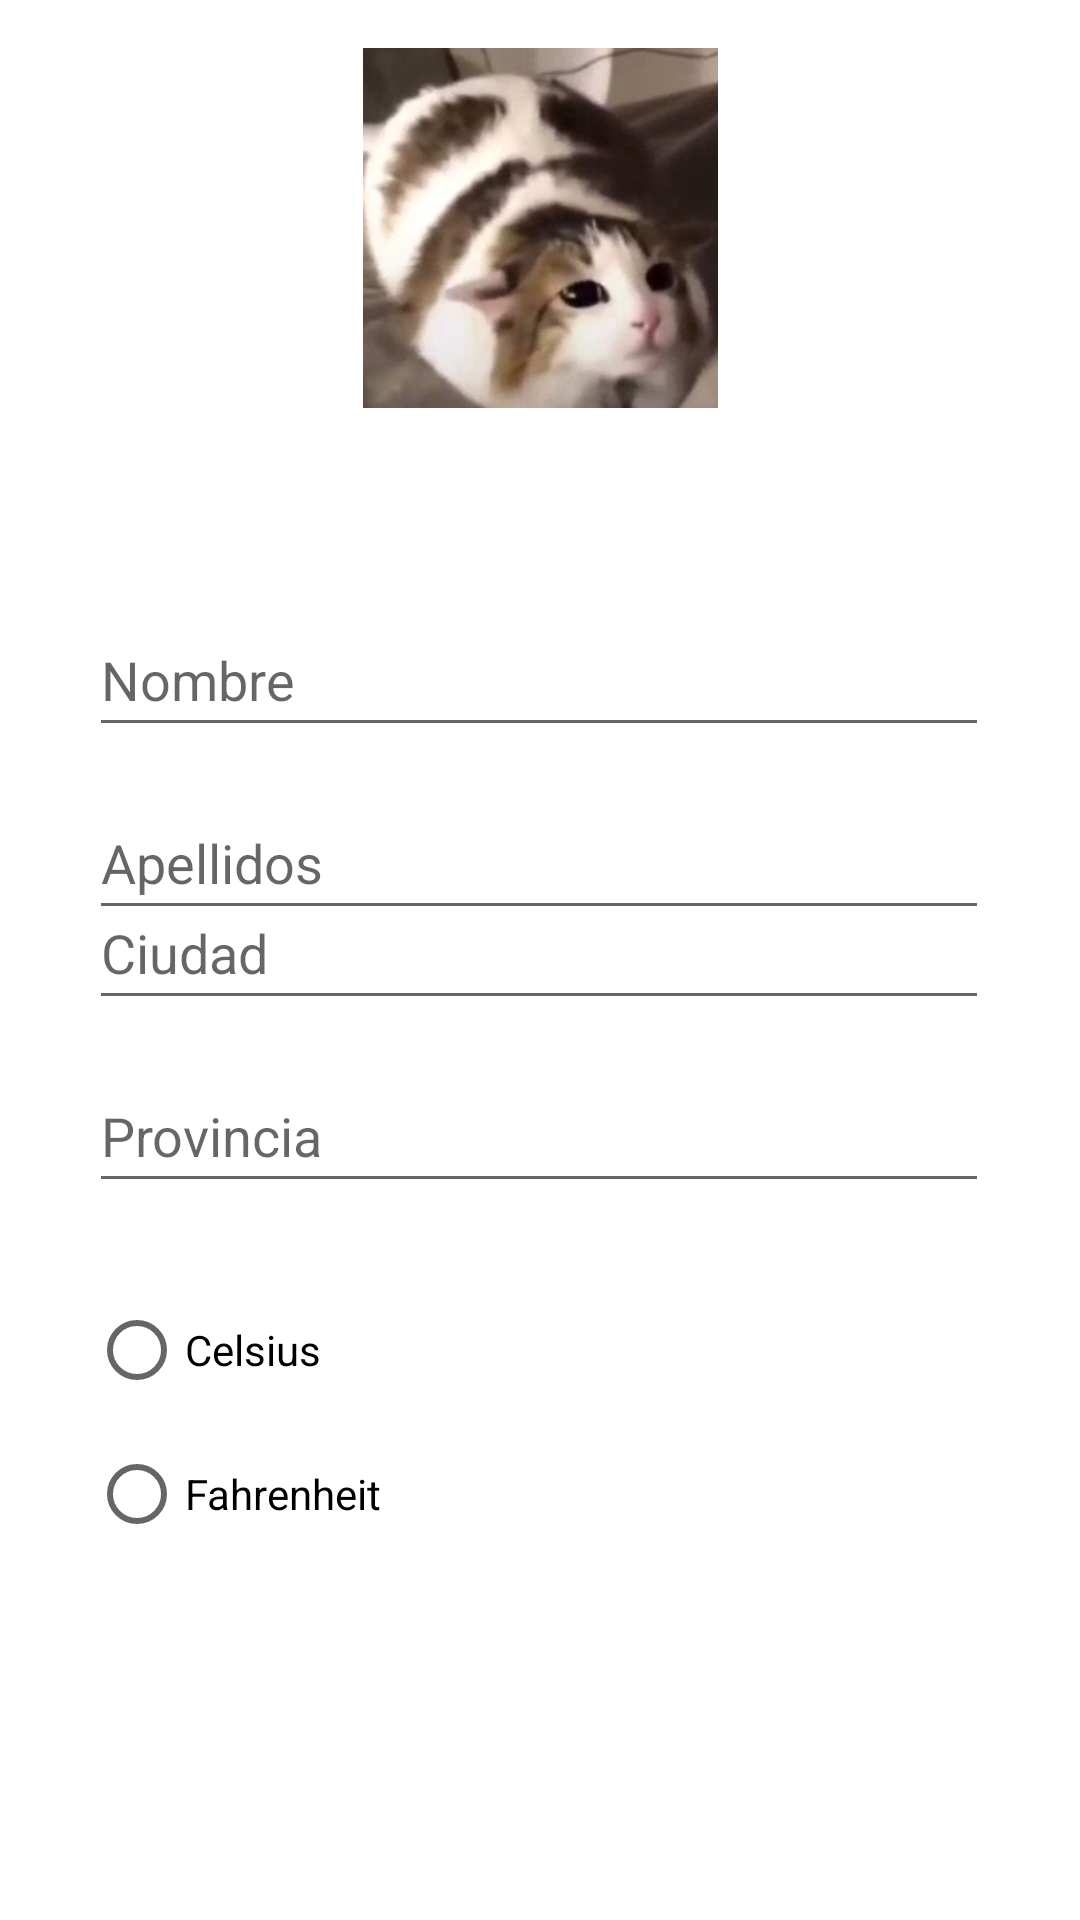

Where to tap for icons on this 1080px×1920px app screen, as (x=x, y=y):
gatinho: (x=540, y=228)
